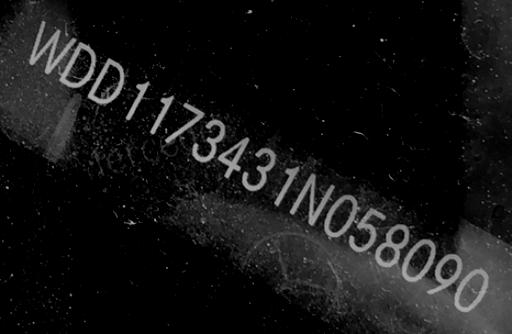letter: (28, 19, 76, 72), (290, 172, 334, 223), (86, 57, 126, 104), (59, 41, 97, 88), (164, 100, 206, 142), (323, 191, 359, 236), (350, 205, 386, 250), (374, 222, 410, 267), (190, 118, 226, 160), (240, 146, 276, 188), (452, 267, 488, 309), (401, 238, 437, 279), (428, 252, 464, 293), (218, 134, 252, 176), (148, 91, 176, 136), (272, 162, 302, 204), (123, 79, 151, 122)
